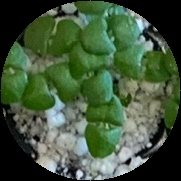Basil: (85, 98, 123, 161), (71, 52, 113, 105), (82, 17, 134, 56), (23, 71, 71, 110), (120, 46, 169, 82), (22, 21, 78, 52), (1, 47, 29, 102)
